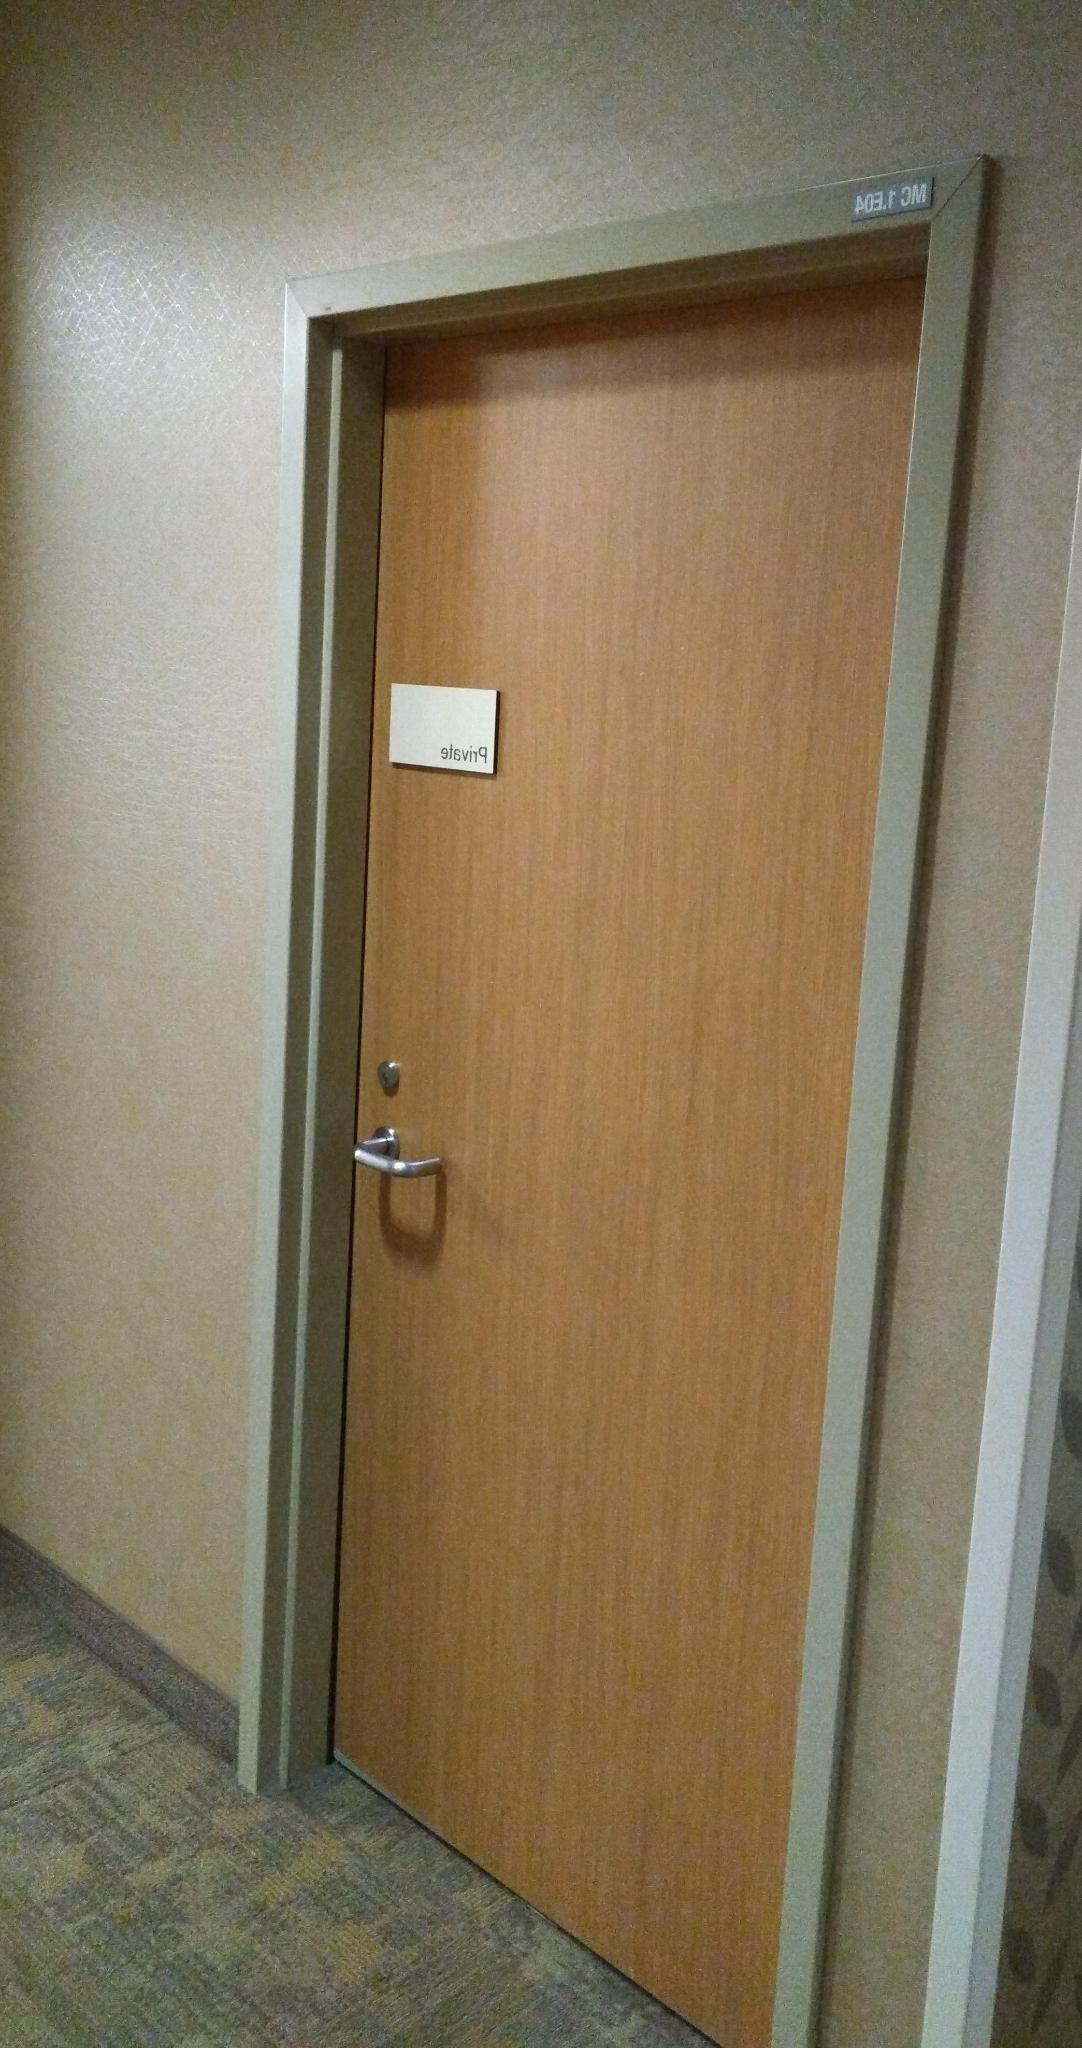door: (347, 375, 808, 1849)
handle: (352, 1089, 433, 1229)
